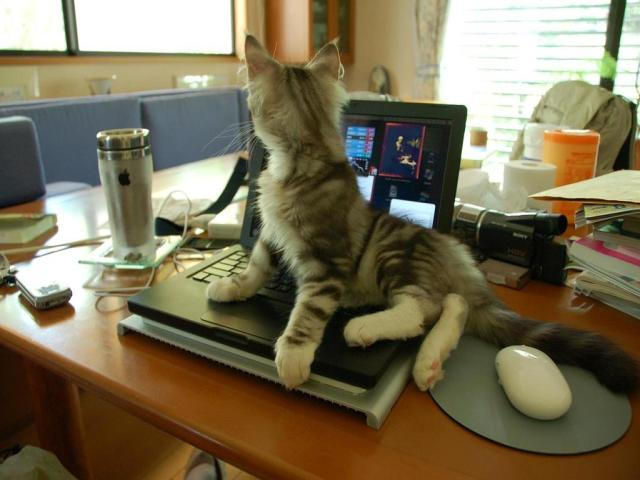Cat: (202, 29, 640, 391)
